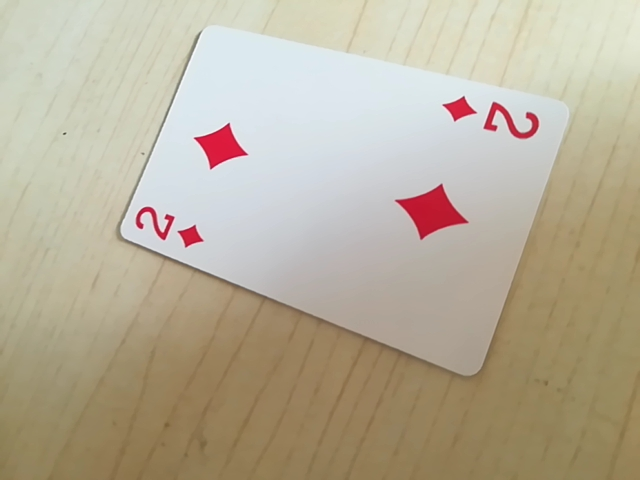fk 2: (439, 94, 548, 145), (129, 196, 211, 253)
